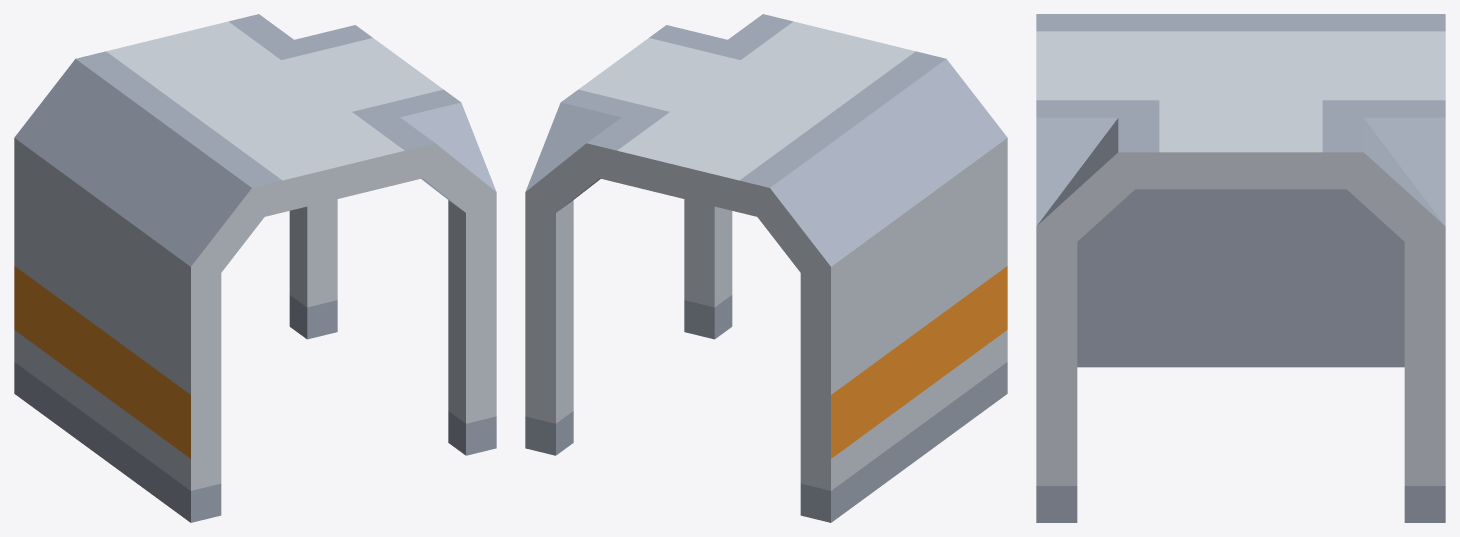
The model's file is corridor_split.dae.
3 renders of one model, left to right at view 1: azimuth 30°, elevation 25°; view 2: azimuth 150°, elevation 25°; view 3: azimuth 270°, elevation 25°, orthographic. The views are drawn at different scales.
Parts seen in each view (by area): view 1: corridor_split; view 2: corridor_split; view 3: corridor_split.
Part boxes in pixels (x1,y1,x2,y2): corridor_split: (14, 14, 496, 522); corridor_split: (525, 14, 1007, 522); corridor_split: (1036, 14, 1445, 522).
Size of the model in its own units: 1 by 1 by 1.
